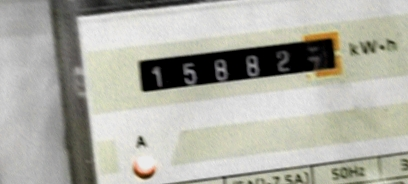1: (149, 63, 166, 89)
2: (274, 46, 293, 73)
5: (180, 59, 199, 86)
7: (306, 52, 322, 70)
8: (242, 50, 261, 77), (211, 56, 230, 81)
screen: (123, 22, 354, 107)
